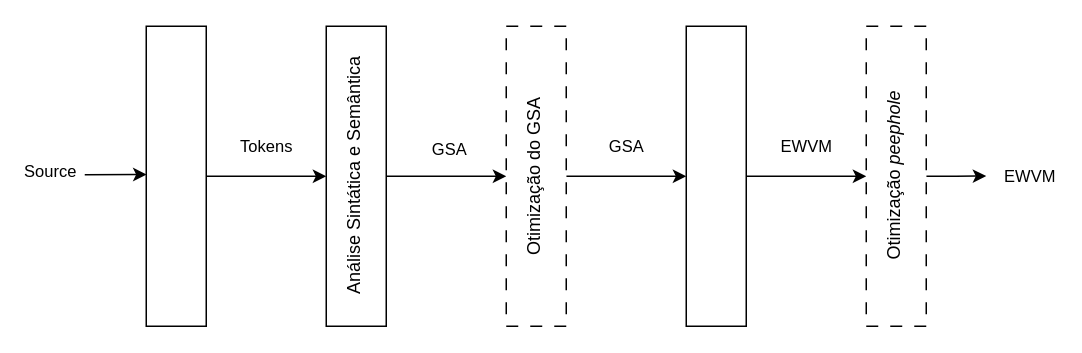
Some shapes in this 1082 by 353 pixel diagram are drawn without their labels. Here are the shapes that lost their labels. From the top down, the centre of each, then its label:
At [175,175]: "Análise Léxica".
At [715,175]: "Geração de Código".
